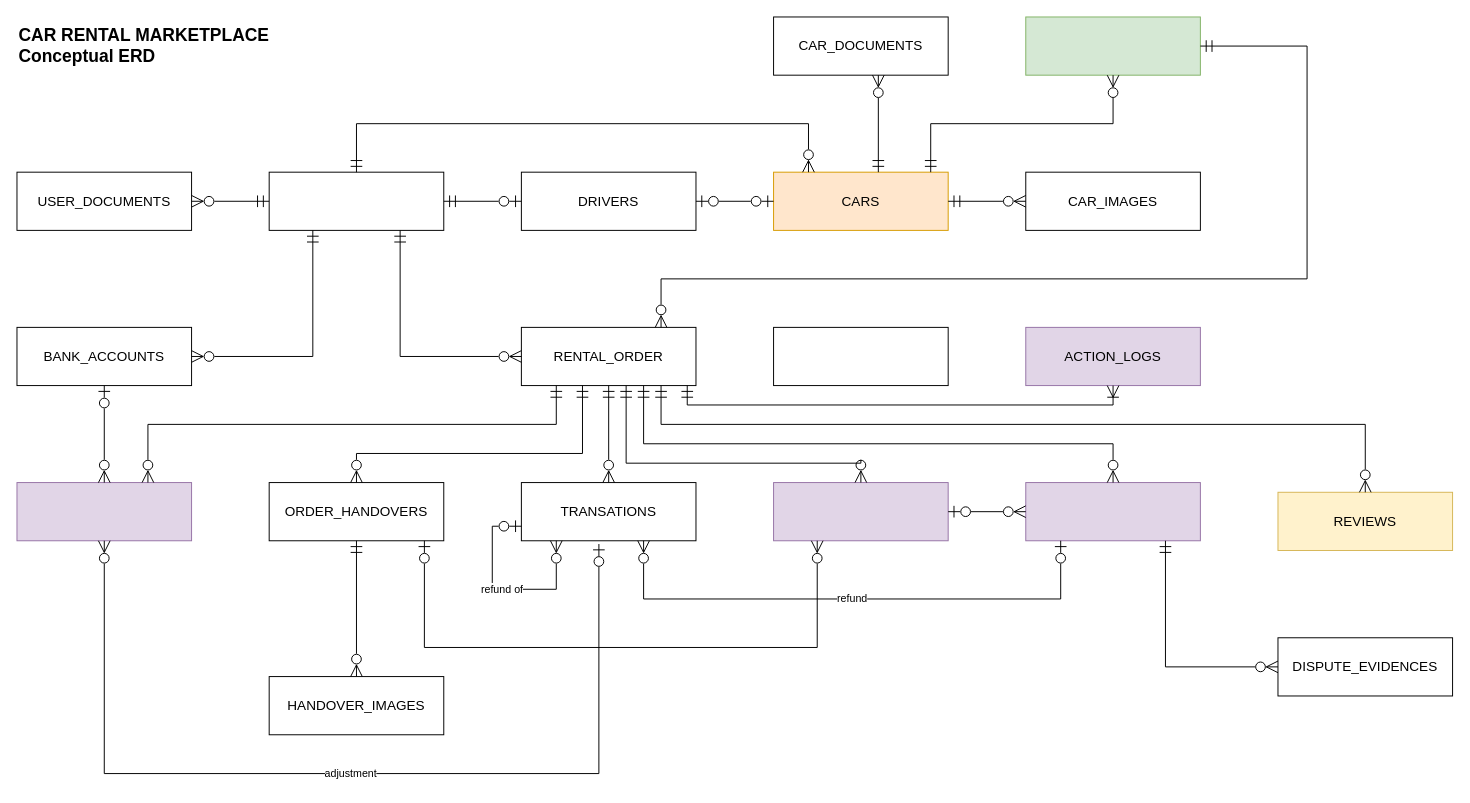
Some shapes in this 1470 by 803 pixel diagram are drawn without their labels. Each missing label, with the box of its shape:
CAR_SLOTS: (1025, 16, 1200, 75)
CUSTOMER: (268, 171, 444, 230)
DISPUTE: (1025, 482, 1200, 541)
EXTRA_FEES: (773, 482, 948, 541)
PAYOUT: (16, 482, 192, 541)
VOUCHERS: (773, 326, 948, 386)
